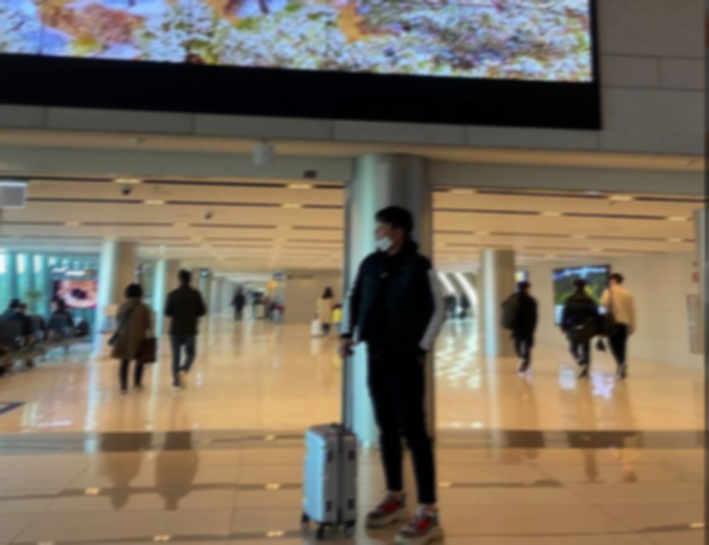mask_weared_incorrect: (372, 203, 413, 256)
